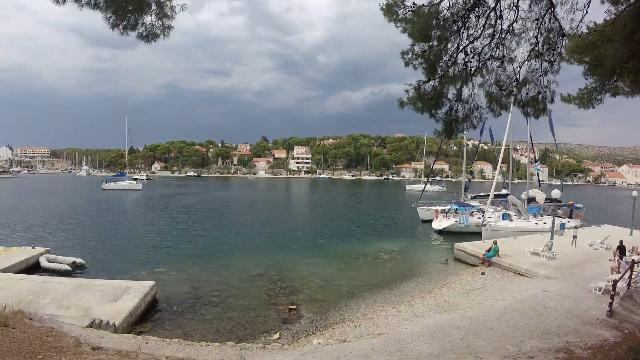Freighter: (1, 162, 26, 180)
Sailboat: (96, 173, 146, 194), (402, 175, 451, 194)
speedboat: (128, 170, 156, 182), (184, 168, 202, 180)
